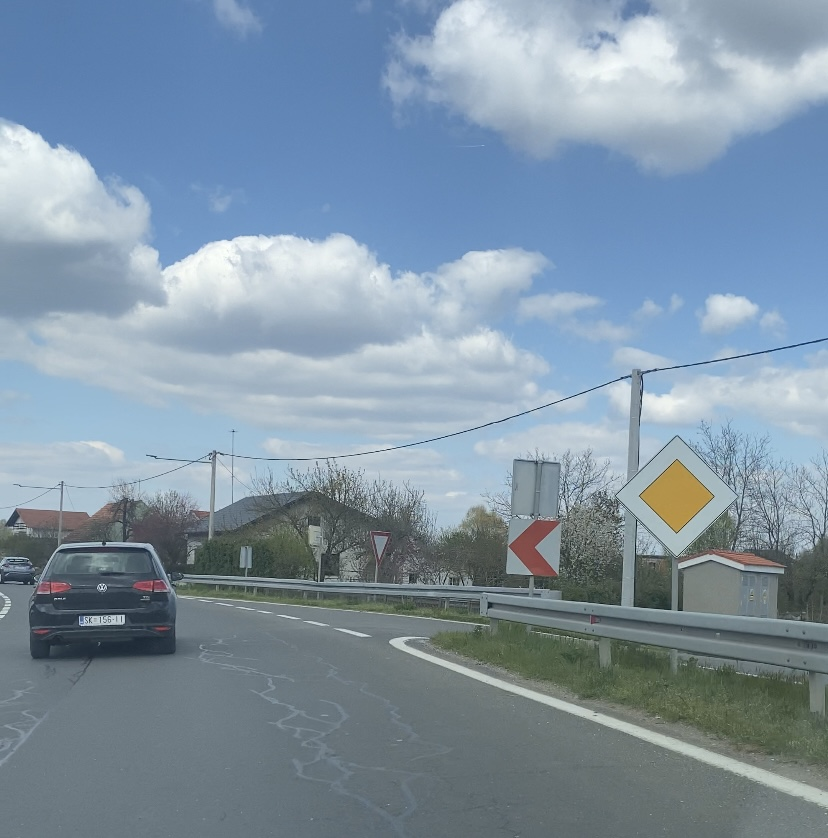Cesta s prednošću prolaska: (614, 433, 739, 558)
